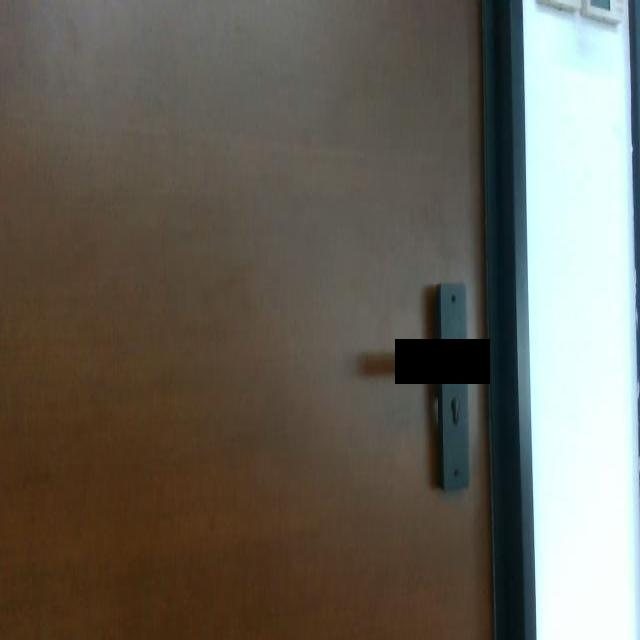doorhandle: (395, 339, 490, 384)
